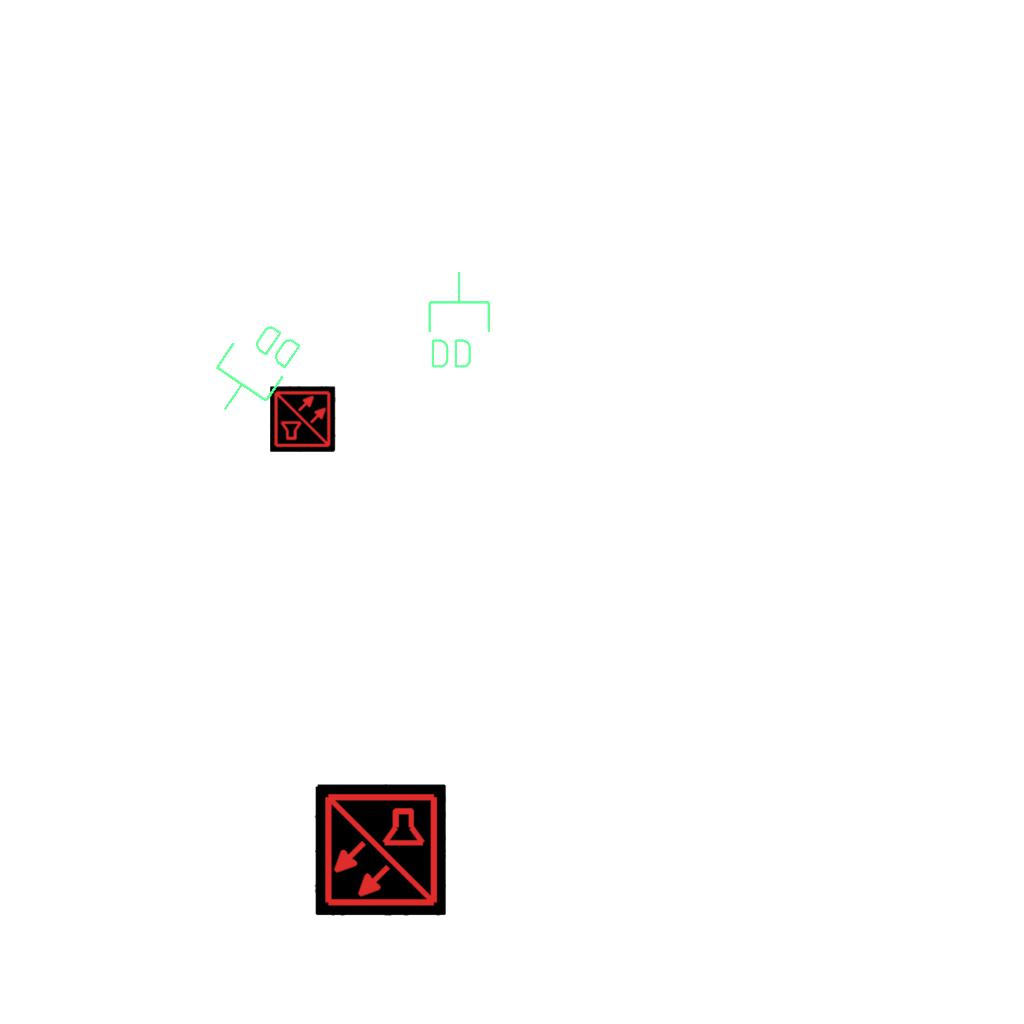Datenanschluss_zweifach: (195, 307, 310, 432), (424, 269, 493, 372)
OKW_Multisensormelder_(Kombination_optischer_Rauch-Kahlenmonoxid_Waerme-Melder): (314, 784, 446, 916), (270, 386, 336, 452)
